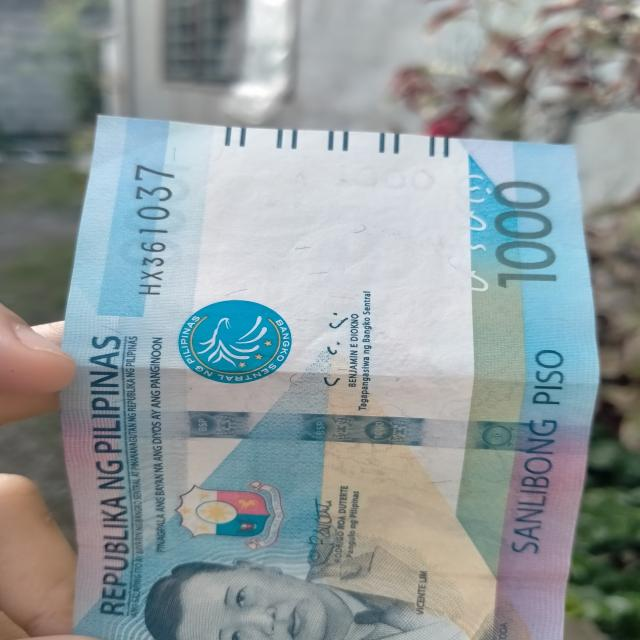see_through_mark: (446, 167, 503, 306)
serial_number: (126, 156, 177, 300)
value_watermark: (324, 157, 448, 196)
watermark: (149, 164, 456, 330)
